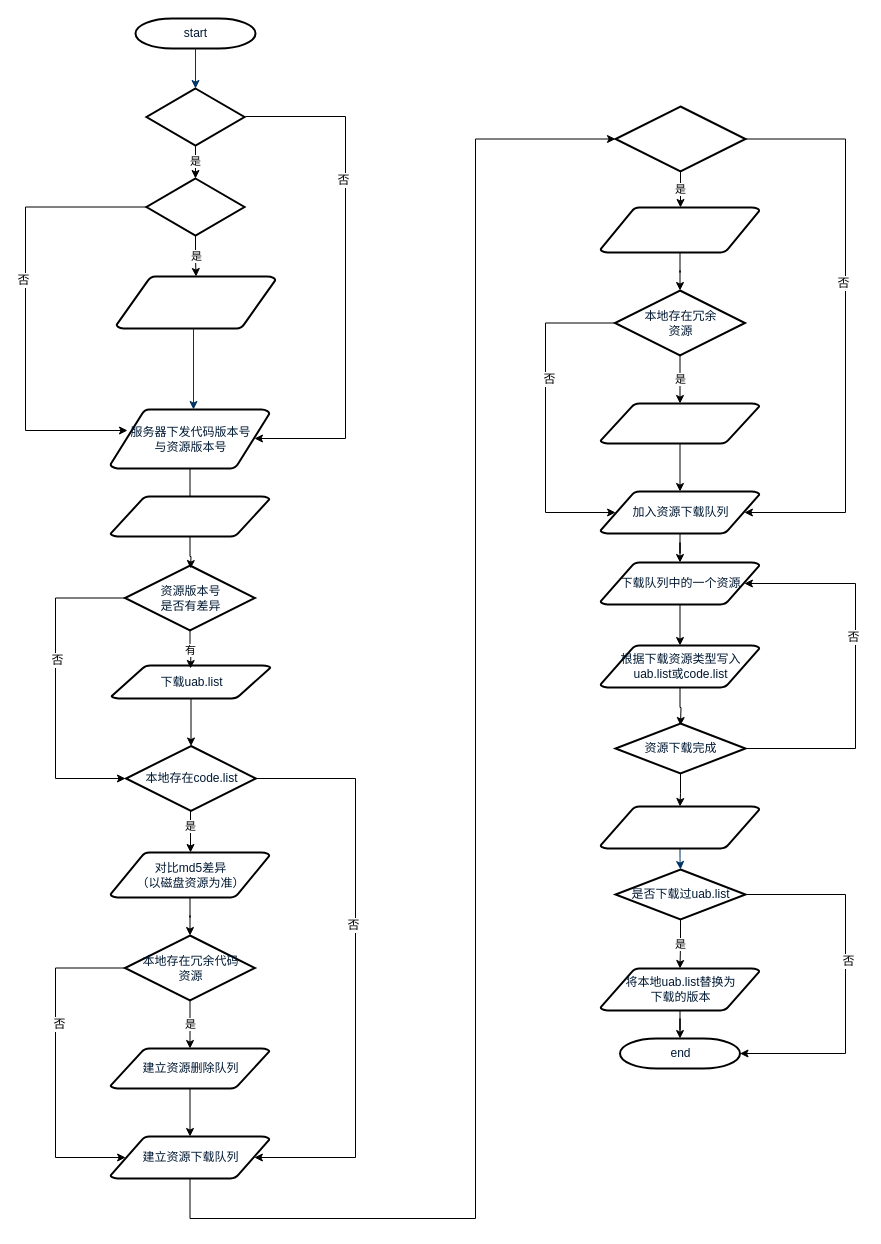
The diagram is 881 pixels wide and 1244 high, and some of its shapes have lost their labels. The shapes that lost their labels are listed below. From the top down, each one's centre as x and y in pixels, then its label:
point 195,116: 包内包含uab
point 680,138: 本地存在uab.list
point 195,206: uab还未提取
point 679,229: 对比md5差异 （以uab.list记录为准）
point 195,302: 提取包内uab及list文件 到本地
point 679,423: 加入冗余资源删除队列
point 189,516: 下载code.list
point 679,827: 将本地code.list替换为 下载的版本
